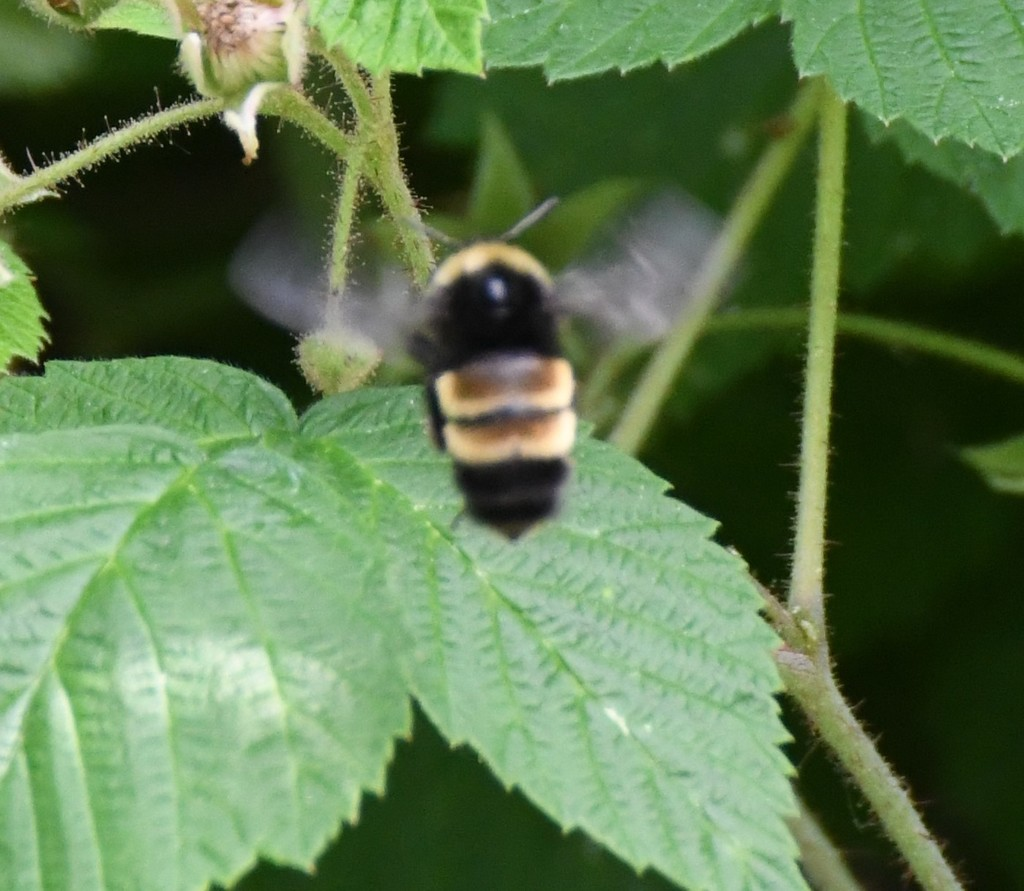bumblebee: (395, 194, 584, 544)
